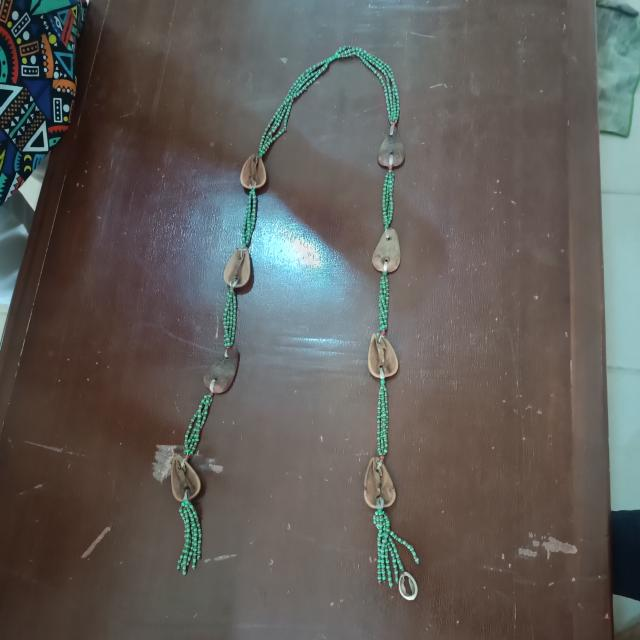facedown: (202, 342, 242, 398), (373, 120, 410, 170), (370, 222, 404, 276)
faceup: (361, 455, 398, 511), (366, 329, 403, 383), (168, 449, 203, 506), (222, 244, 256, 294), (240, 150, 270, 193)
